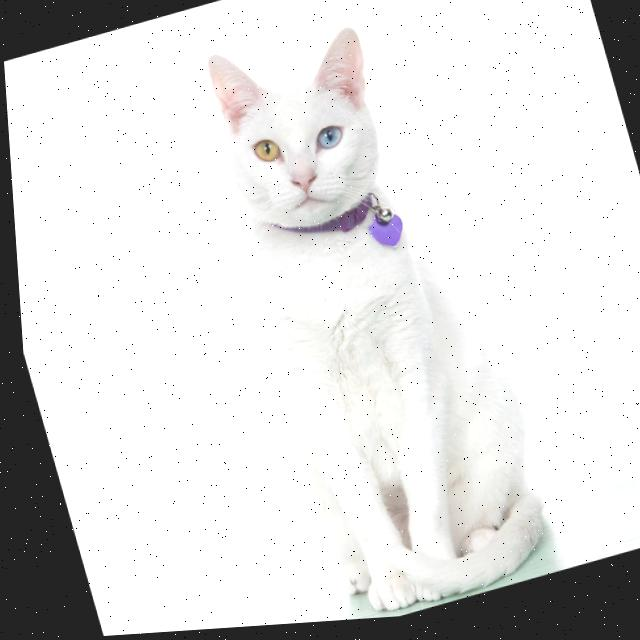Khao Manee: (144, 0, 569, 633)
